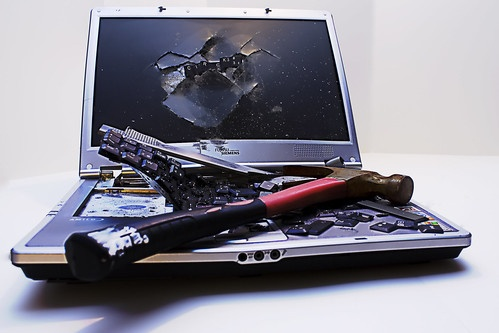hammer: (62, 162, 415, 280)
